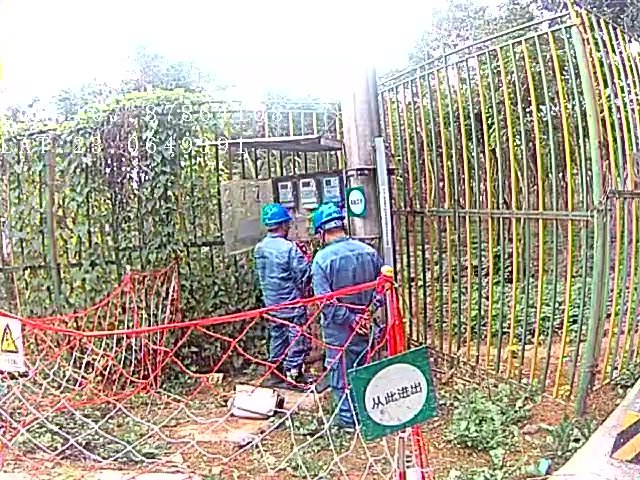halt: (316, 207, 351, 240), (264, 206, 296, 235)
